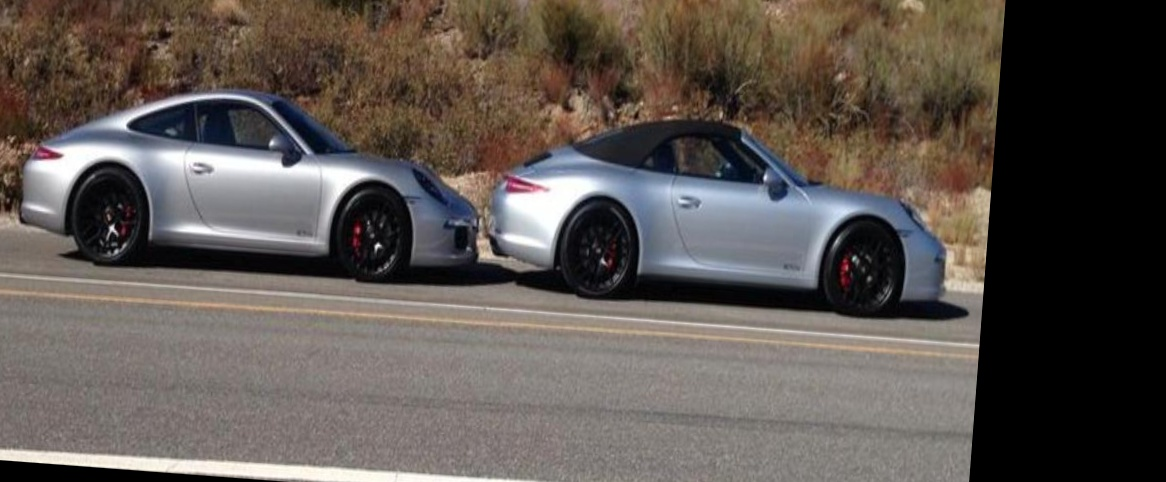car: (10, 59, 482, 315), (477, 93, 967, 338)
